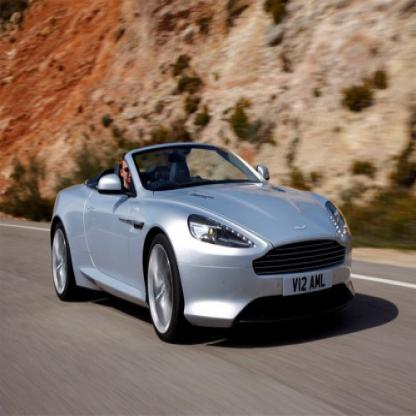Vehicle: (47, 137, 360, 350)
